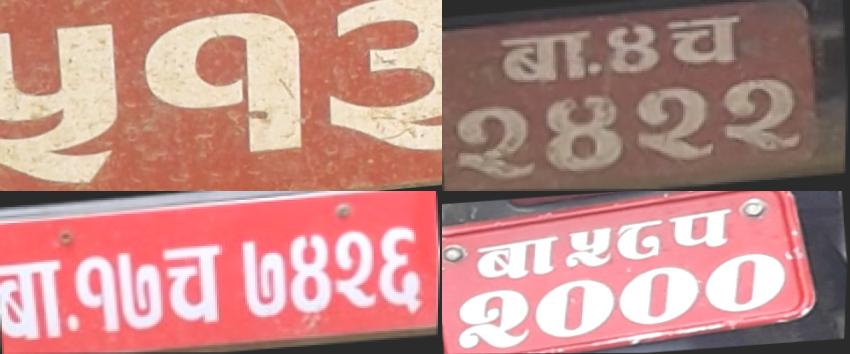0: (475, 237, 559, 283)
1: (133, 0, 320, 172), (68, 250, 125, 340), (453, 289, 532, 351)
2: (444, 95, 540, 189), (630, 80, 725, 174), (717, 71, 810, 165), (326, 221, 385, 322)
3: (310, 0, 442, 170)
4: (537, 89, 632, 183), (282, 227, 338, 324), (598, 13, 671, 82)
5: (0, 7, 139, 191)
6: (372, 217, 433, 320), (562, 228, 614, 268)
7: (232, 230, 294, 326), (112, 242, 170, 342)
8: (670, 209, 737, 251)
ba: (492, 23, 598, 94), (0, 253, 75, 352)
cha: (155, 235, 234, 336), (662, 5, 753, 79), (530, 277, 618, 339), (702, 251, 790, 313), (617, 265, 704, 327)
pa: (613, 220, 670, 261)
